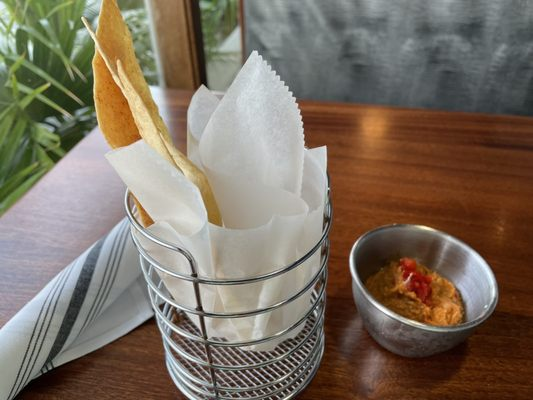sandwich: (1, 218, 132, 400)
sushi: (348, 223, 499, 360)
